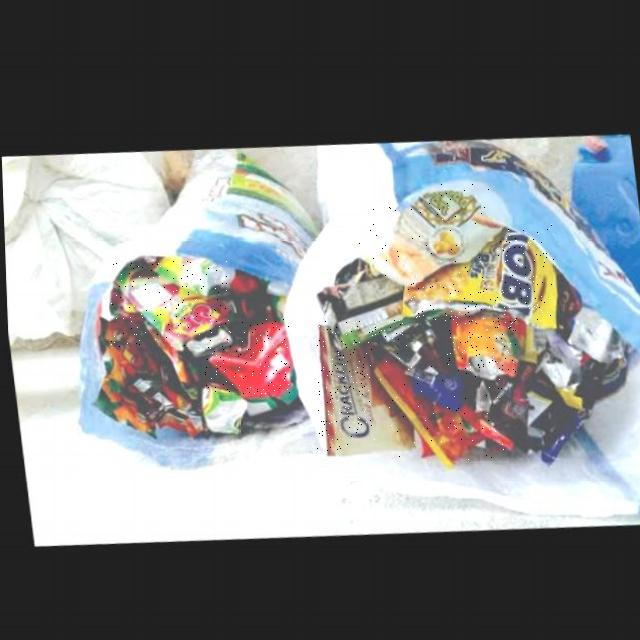wrapper: (371, 342, 509, 463), (403, 224, 554, 321), (358, 181, 502, 282), (317, 320, 413, 451), (110, 261, 227, 347), (205, 319, 290, 394), (448, 306, 516, 374)
